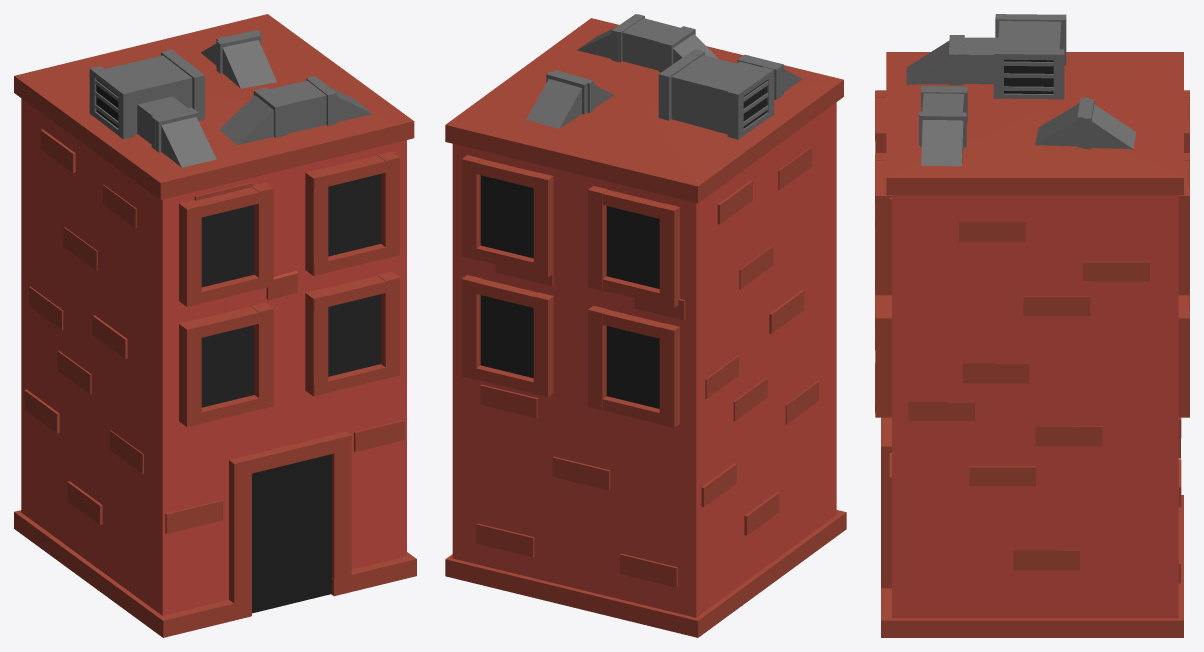
Rendered from House.fbx.
3 views of the same model, side by side, from view 1: azimuth 30°, elevation 25°; view 2: azimuth 150°, elevation 25°; view 3: azimuth 270°, elevation 25° (orthographic).
Visible parts, largest first — view 1: Cube.001; view 2: Cube.001; view 3: Cube.001.
Boxes of the visible parts, x1,y1,x2,y2 form: Cube.001: [14, 14, 416, 637]; Cube.001: [445, 14, 846, 637]; Cube.001: [875, 14, 1189, 637].
Bounding box in the file's own units: 892 × 1675 × 944.
